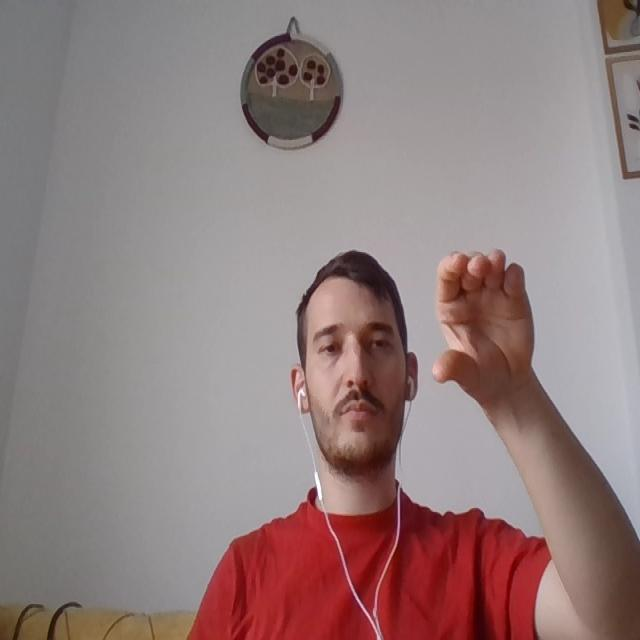no: (425, 240, 542, 409)
